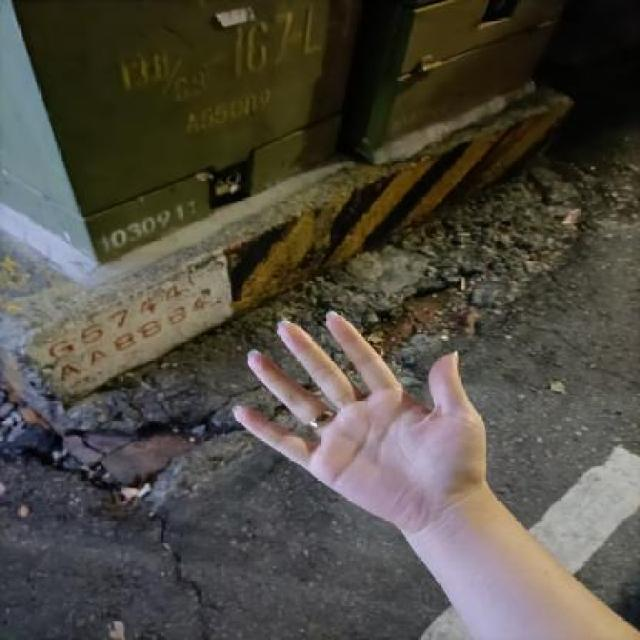bare_hand: (227, 299, 506, 536)
